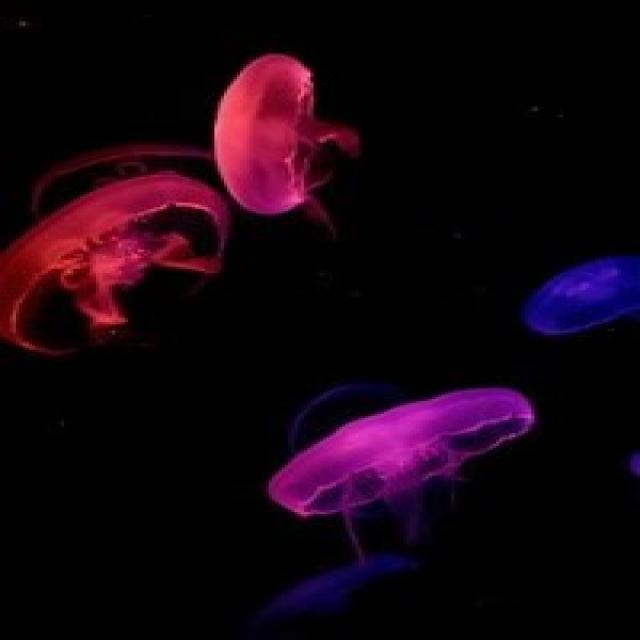Jellyfish: (0, 169, 207, 364), (267, 389, 554, 526), (219, 43, 354, 235), (496, 258, 640, 339)
